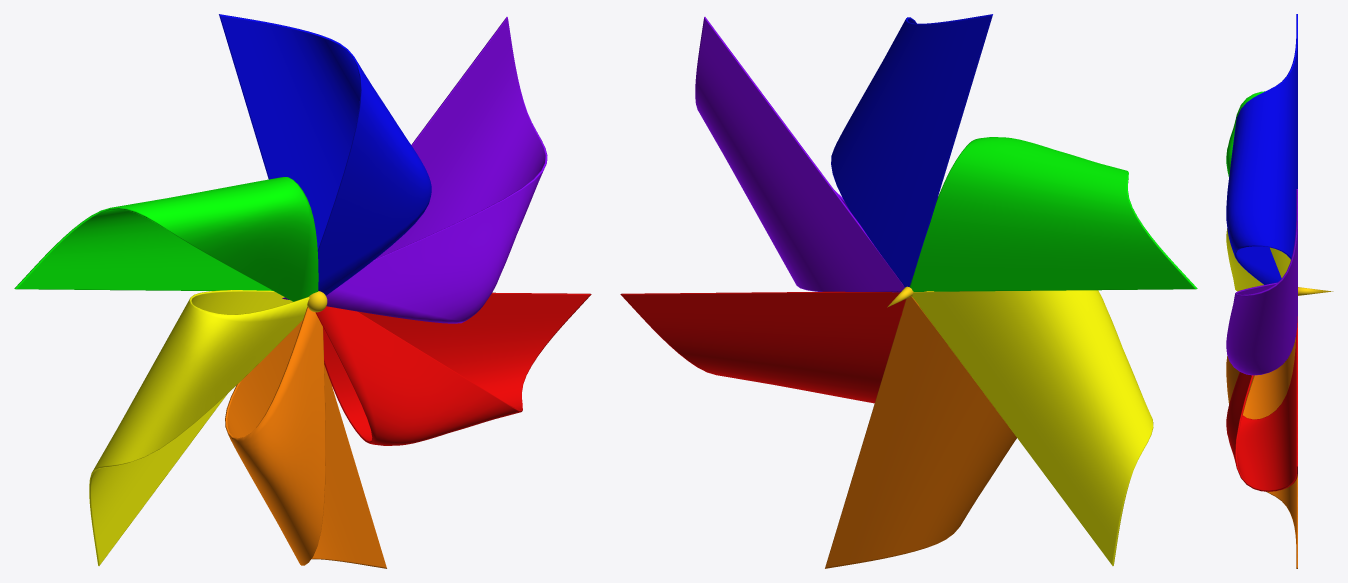
Rendered from pinwheel.glb.
The picture shows the model from 3 angles, left to right: view 1: azimuth 30°, elevation 25°; view 2: azimuth 150°, elevation 25°; view 3: azimuth 270°, elevation 25°; orthographic projection. The views are drawn at different scales.
Visible parts, largest first — view 1: Girandole_1; view 2: Girandole_1; view 3: Girandole_1, Chiodino_4.
Part boxes in pixels (<box>): Girandole_1: <box>14,14,591,568</box>; Girandole_1: <box>620,14,1197,568</box>; Girandole_1: <box>1226,14,1297,568</box>; Chiodino_4: <box>1298,287,1333,295</box>.
Bounding box in the file's own units: 0.667 × 0.6583 × 0.1312.
